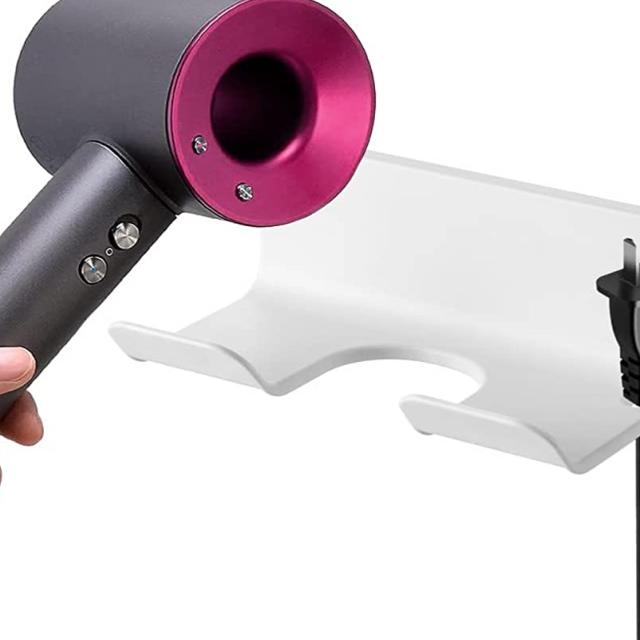dryer: (1, 0, 388, 428)
